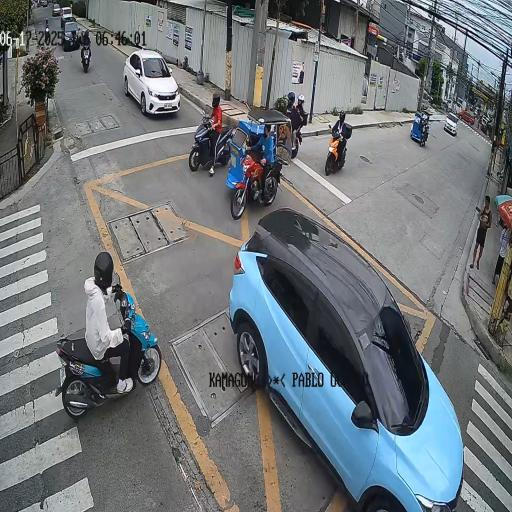Car: (224, 203, 464, 512), (119, 52, 179, 125), (444, 112, 459, 144)
Motor: (33, 248, 163, 410), (218, 152, 283, 204), (188, 107, 220, 190), (319, 134, 348, 185), (78, 25, 92, 76)
